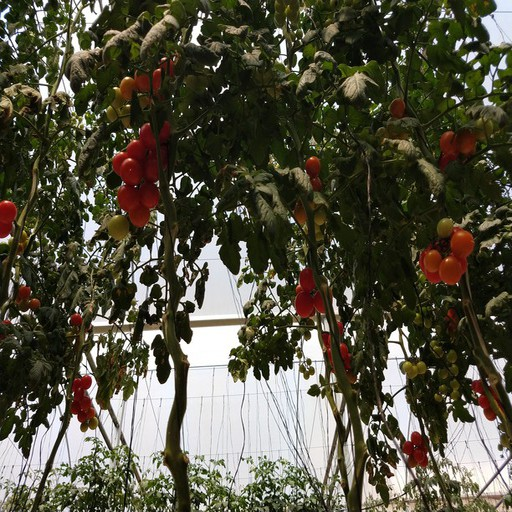green tomato bunch: (427, 339, 460, 404), (399, 359, 426, 376)
mixed tomato bunch: (108, 54, 175, 125), (440, 116, 495, 174), (296, 159, 328, 256), (376, 94, 414, 153)
red tomato bunch: (113, 121, 173, 227), (422, 219, 474, 286), (323, 322, 355, 372), (69, 375, 98, 429), (473, 376, 508, 420), (297, 269, 328, 317), (402, 430, 433, 469)
